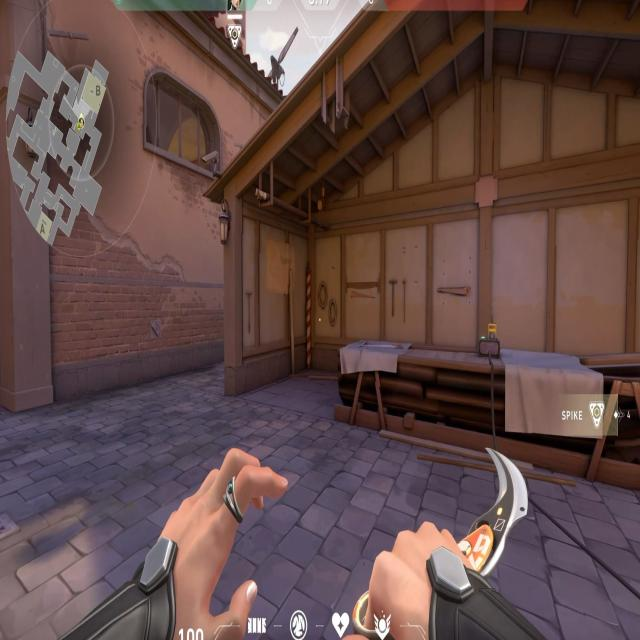B_Garage_Left: (214, 198, 401, 434)
Throwables: (132, 46, 226, 186)
